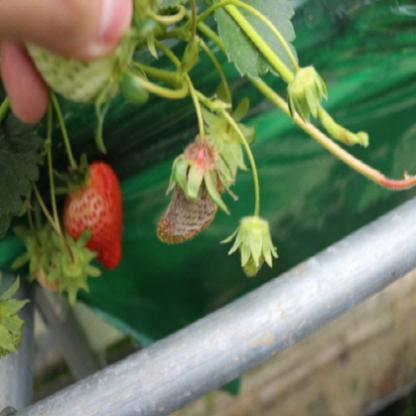Strawberry_Gray_Mold: (156, 135, 238, 243)
